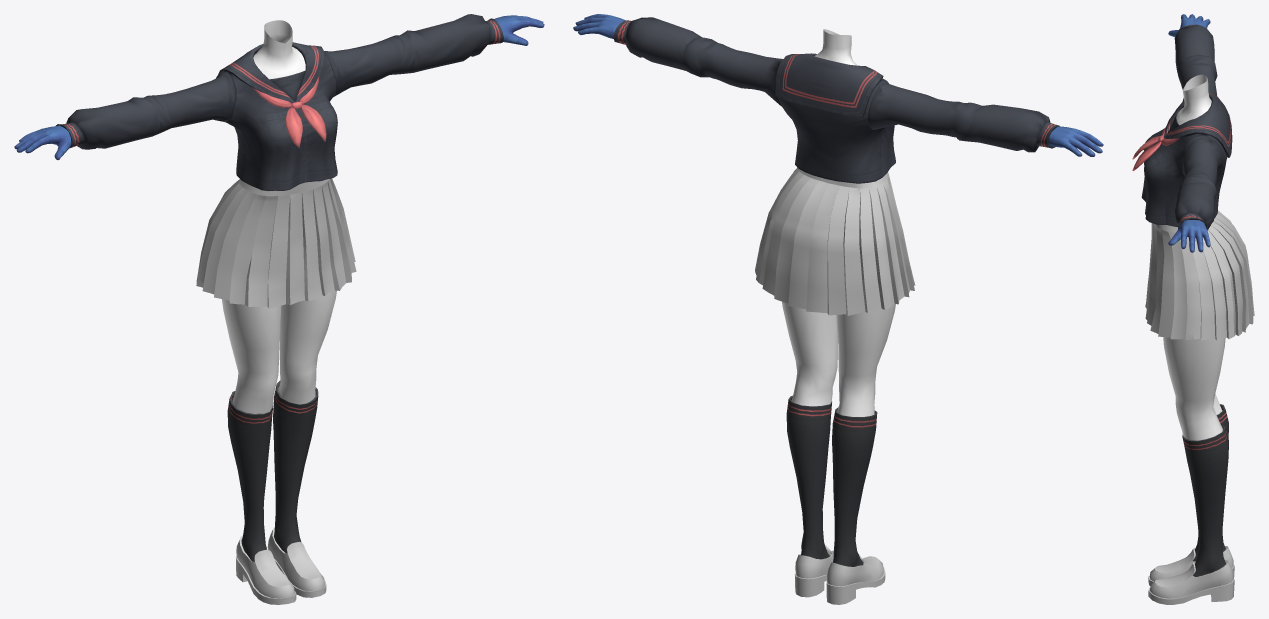
File: 水手服不带骨骼.fbx
3 renders of one model, left to right at view 1: azimuth 30°, elevation 25°; view 2: azimuth 150°, elevation 25°; view 3: azimuth 270°, elevation 25°, orthographic. The views are drawn at different scales.
Parts seen in each view (by area): view 1: 水手服上衣, 水手服裙子, Body, 水手服袜子, 水手服鞋子, 手套; view 2: 水手服上衣, 水手服裙子, Body, 水手服袜子, 水手服鞋子, 手套; view 3: 水手服上衣, 水手服裙子, Body, 水手服袜子, 水手服鞋子, 手套.
Part boxes in pixels (x1,y1,x2,y2): 水手服上衣: [56, 14, 503, 190]; 水手服裙子: [196, 178, 356, 308]; Body: [222, 20, 336, 413]; 水手服袜子: [227, 380, 318, 561]; 水手服鞋子: [236, 528, 326, 604]; 手套: [14, 15, 544, 159]; 水手服上衣: [613, 17, 1059, 183]; 水手服裙子: [755, 168, 915, 315]; Body: [782, 29, 895, 416]; 水手服袜子: [786, 395, 877, 566]; 水手服鞋子: [794, 545, 885, 604]; 手套: [573, 14, 1103, 156]; 水手服上衣: [1132, 24, 1232, 229]; 水手服裙子: [1145, 210, 1254, 340]; Body: [1163, 74, 1225, 440]; 水手服袜子: [1182, 404, 1228, 576]; 水手服鞋子: [1148, 546, 1234, 604]; 手套: [1168, 14, 1210, 252].
Size of the model in its own units: 1.53 by 0.336 by 1.55.
Materials: 6 (3 with a texture image).
